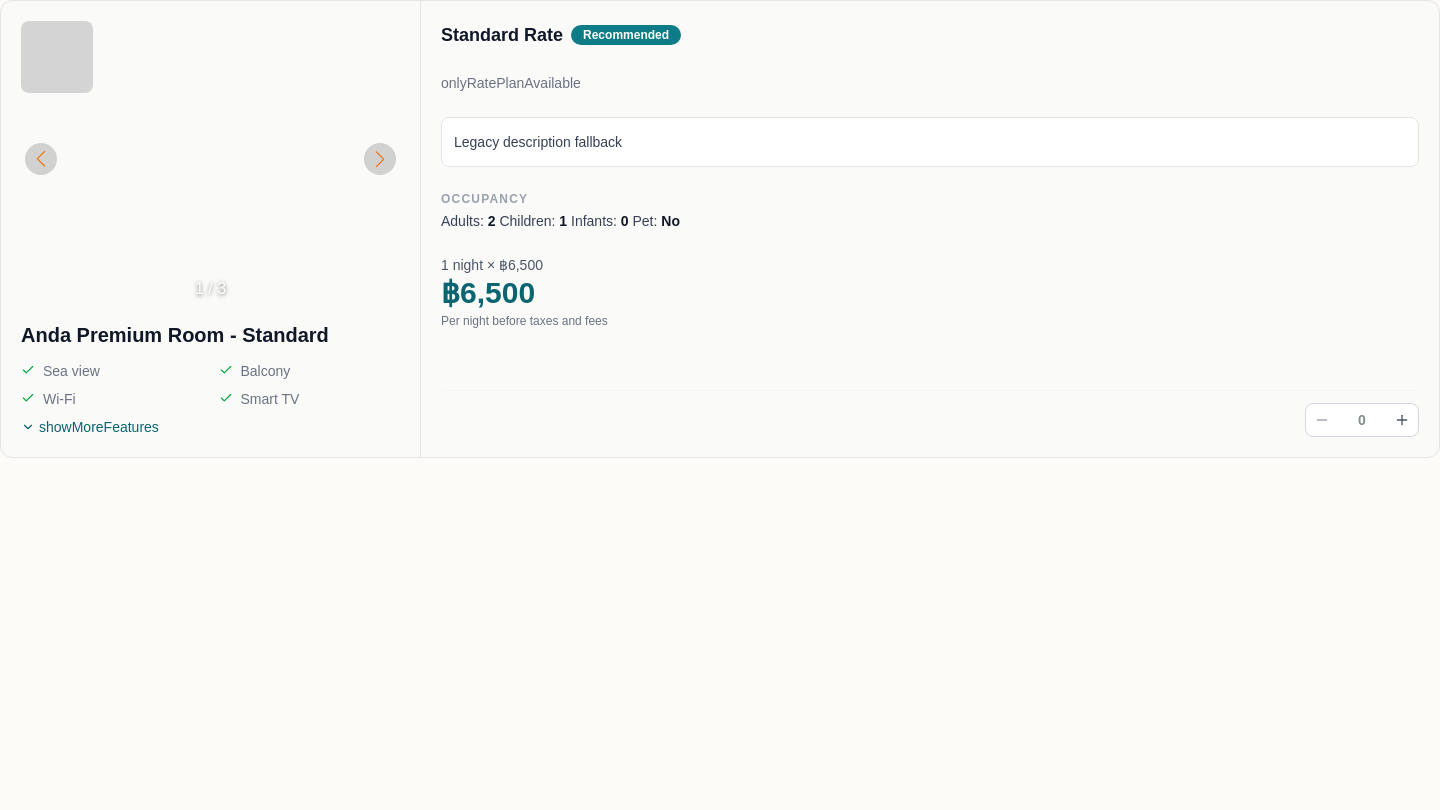
Test case: RoomClassCard › opens all room features in a modal instead of expanding the card inline
Expected: the text "Workspace" is not shown
# Component shows "showMoreFeatures" button that opens a modal
Click the button "showMoreFeatures": (90, 427) [21,417,159,437]
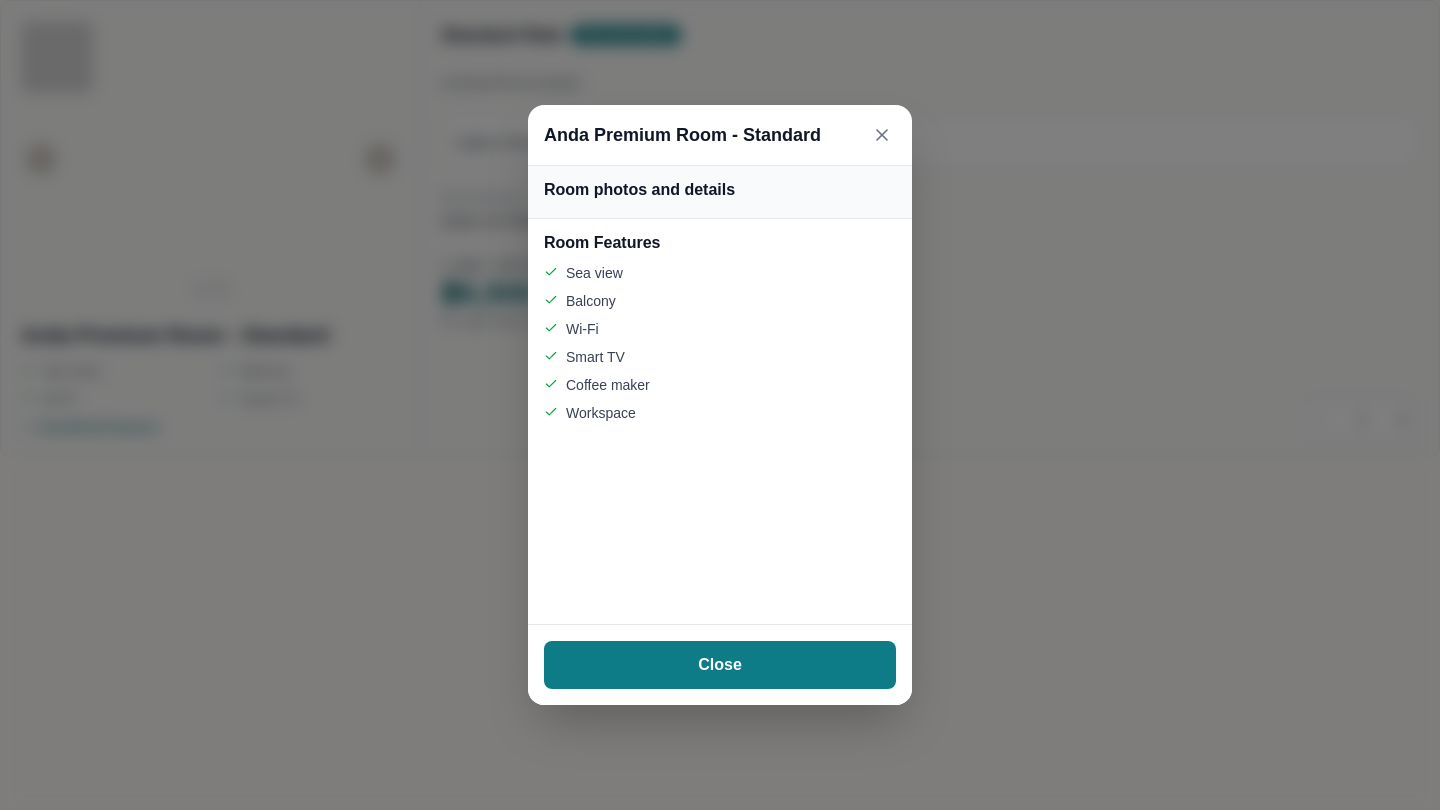
Result: the dialog is shown at [528,105,912,705]
Result: the text "Workspace" is shown at [566,403,636,423]
Result: the text "Room photos and details" is shown at [544,181,735,198]
